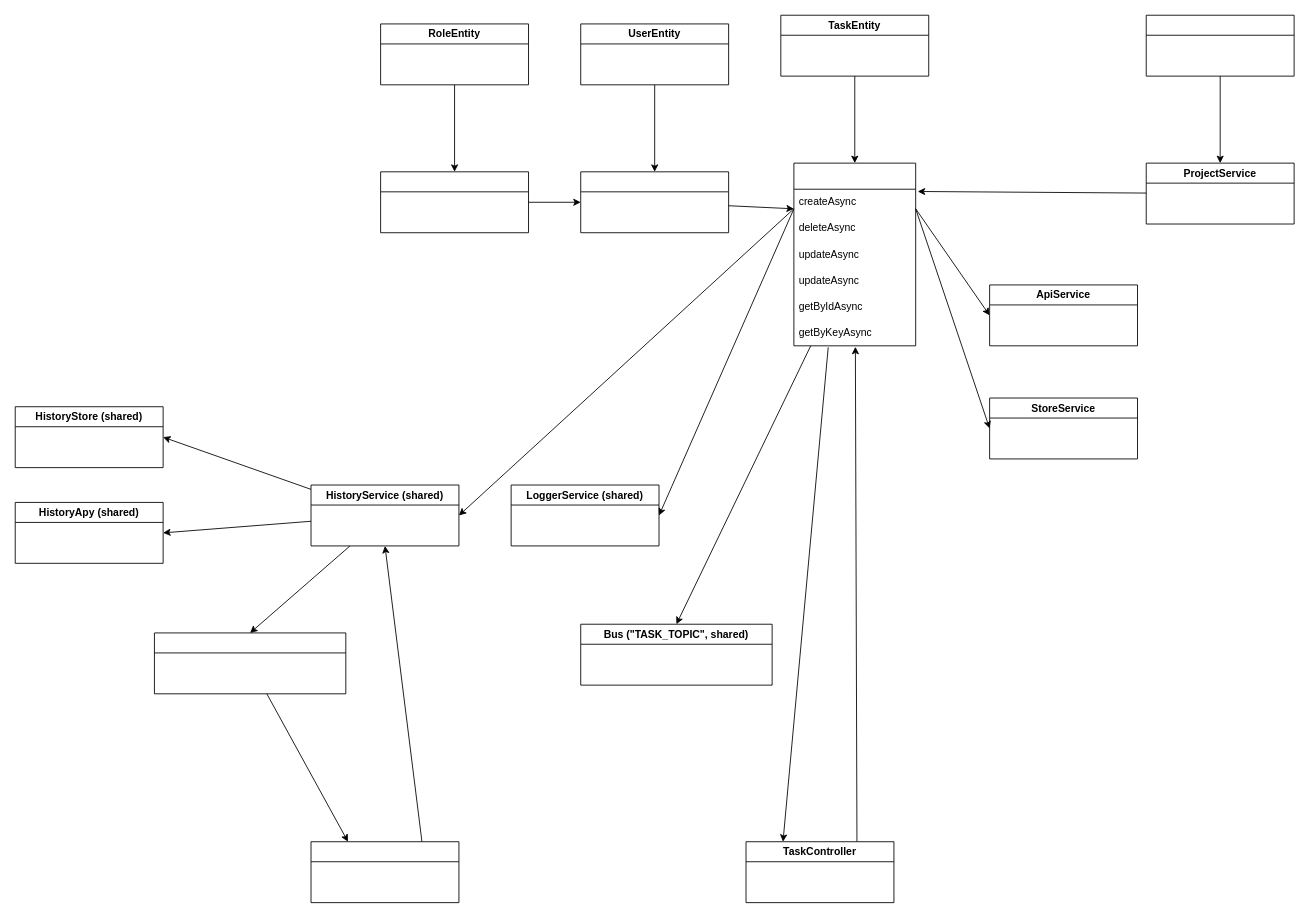
Image size: 1309x918. Some labels were removed from this diagram. Each missing label, with the box of its shape:
Bus ("HISTORY_TOPIC", shared): (154, 632, 346, 694)
HistoryController: (310, 841, 459, 903)
ProjectEntity: (1145, 14, 1294, 76)
RoleService: (380, 171, 529, 233)
TaskService: (793, 162, 916, 346)
UserService: (580, 171, 729, 233)
